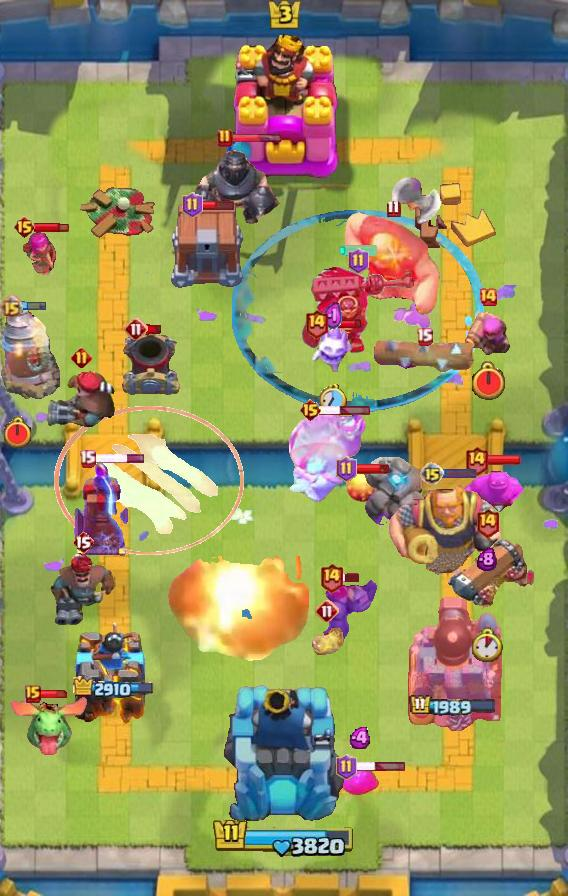balloon: (344, 211, 442, 323)
battle-healer: (446, 535, 528, 619)
bomb: (168, 203, 246, 289)
cannon: (21, 227, 59, 275)
clock: (212, 817, 356, 859)
electro-spirit: (323, 301, 343, 332), (349, 727, 373, 749), (477, 547, 497, 571)
electro-wizard: (6, 695, 88, 757)
elixir: (469, 361, 507, 402), (3, 416, 33, 450), (473, 628, 503, 662), (319, 385, 347, 416)
emote: (94, 453, 147, 464), (230, 133, 282, 144), (319, 404, 371, 415), (354, 761, 406, 772), (12, 300, 48, 312), (486, 454, 522, 466), (354, 463, 390, 475), (201, 199, 236, 211), (34, 221, 69, 233), (326, 318, 363, 329), (442, 469, 478, 480), (38, 689, 70, 699), (341, 572, 361, 583), (146, 325, 163, 336)
giant-skeleton: (387, 479, 503, 579)
hog: (346, 465, 380, 503)
ice-spirit: (338, 244, 378, 256)
ice-spirit-evolution: (310, 627, 344, 659)
ice-spirit-evolution-symbol: (71, 461, 131, 557)
ice-wizard: (54, 405, 244, 554)
inferno-tower: (300, 267, 416, 355)
king-tower: (221, 682, 347, 826), (227, 29, 341, 181)
lava-hound: (286, 409, 368, 505)
magic-archer: (0, 308, 60, 400)
miner: (341, 768, 381, 796)
minion: (373, 335, 476, 373)
mirror: (311, 320, 355, 374)
musketeer: (120, 331, 182, 399)
pad_0: (232, 209, 484, 413)
phoenix-small: (48, 550, 118, 628), (44, 370, 118, 432)
queen-tower: (72, 619, 156, 731)
royal-giant: (391, 177, 445, 237)
royal-guardian: (182, 141, 284, 227)
selected: (409, 694, 497, 718), (72, 675, 155, 700)
text: (463, 445, 488, 476), (476, 506, 501, 537), (304, 308, 328, 339), (320, 562, 344, 593), (124, 317, 148, 341), (420, 462, 444, 486), (315, 599, 339, 623), (335, 456, 357, 482), (335, 754, 357, 780), (13, 215, 36, 239), (1, 294, 24, 318), (299, 398, 322, 422), (181, 192, 202, 218), (348, 248, 369, 274), (72, 530, 94, 554), (71, 348, 92, 369), (478, 287, 498, 307), (415, 327, 433, 345), (80, 449, 97, 468), (217, 128, 233, 148), (25, 685, 41, 703), (387, 199, 401, 217)
tombstone: (464, 305, 512, 359)
tornado: (458, 463, 528, 521)
tower-bar: (404, 593, 502, 731)
valkyrie: (157, 556, 313, 678)
valkyrie-evolution: (361, 457, 431, 525), (310, 577, 380, 643)
